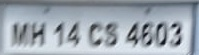character: (11, 22, 28, 46), (30, 21, 45, 47), (86, 22, 102, 46), (140, 21, 153, 47), (66, 22, 80, 46), (104, 22, 117, 47), (126, 22, 139, 46), (154, 22, 167, 46), (169, 22, 182, 46), (54, 21, 64, 46)
